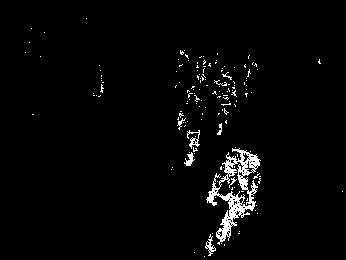person: (178, 85, 206, 167), (214, 67, 237, 135)
